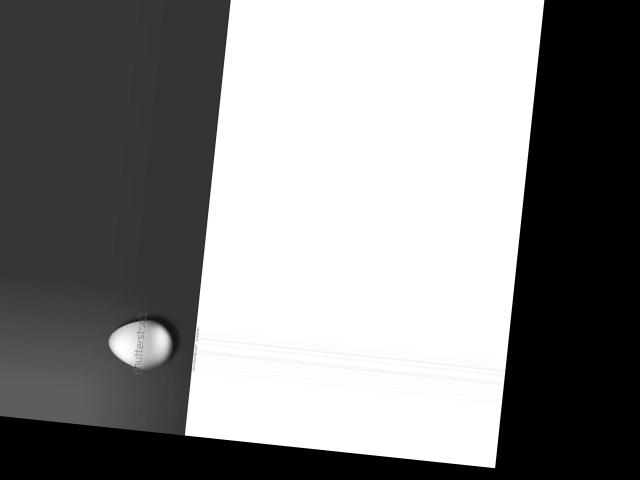egg: (105, 315, 174, 372)
